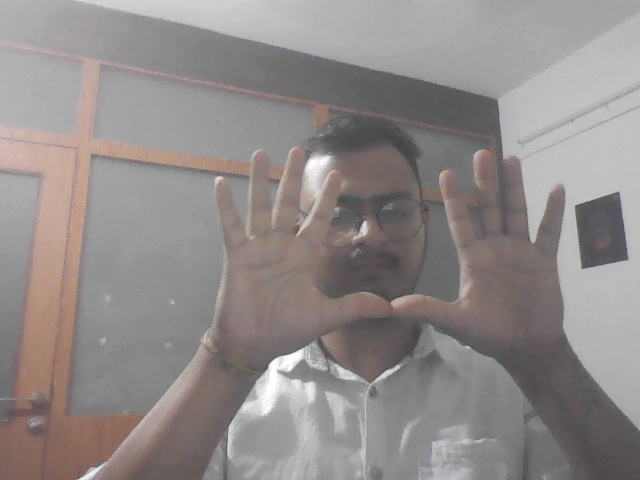Cheers: (193, 143, 579, 357)
